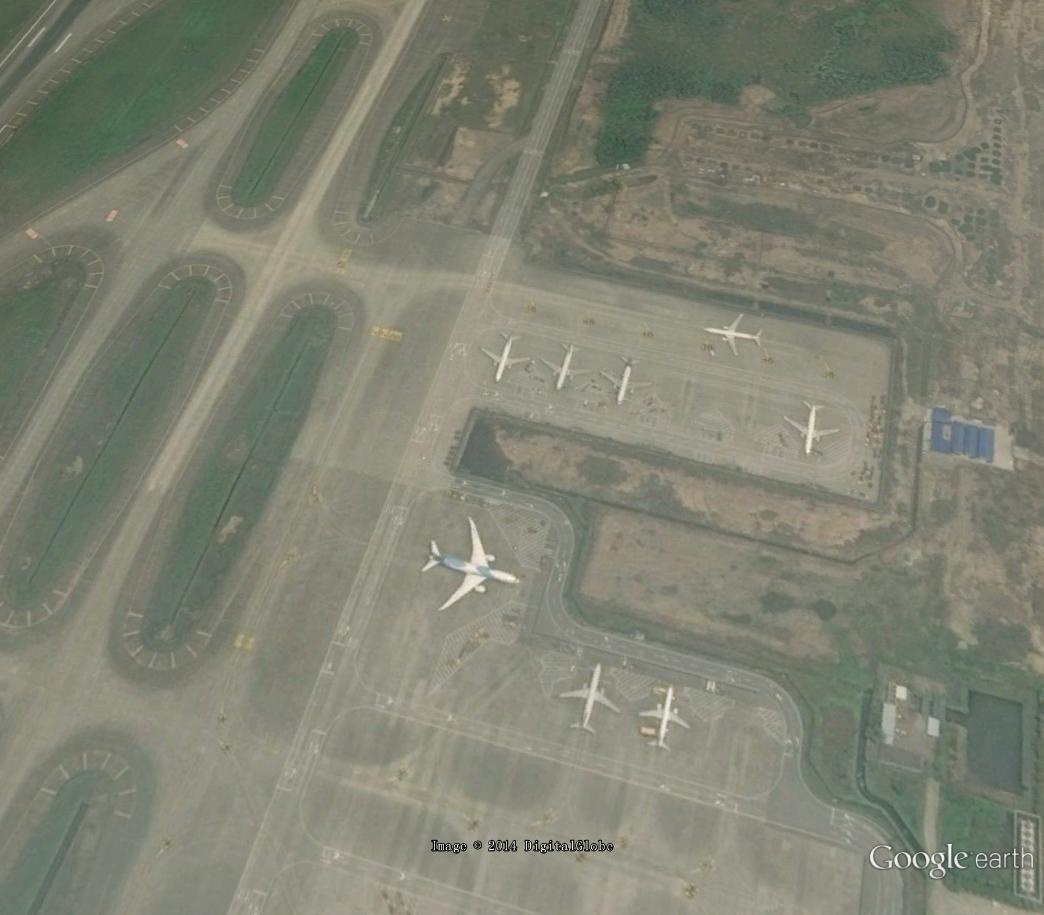aircraft: (415, 514, 526, 616), (555, 660, 627, 742), (634, 678, 694, 757), (474, 324, 537, 390), (781, 397, 847, 460), (700, 309, 771, 364), (538, 337, 594, 402), (597, 351, 655, 411)
